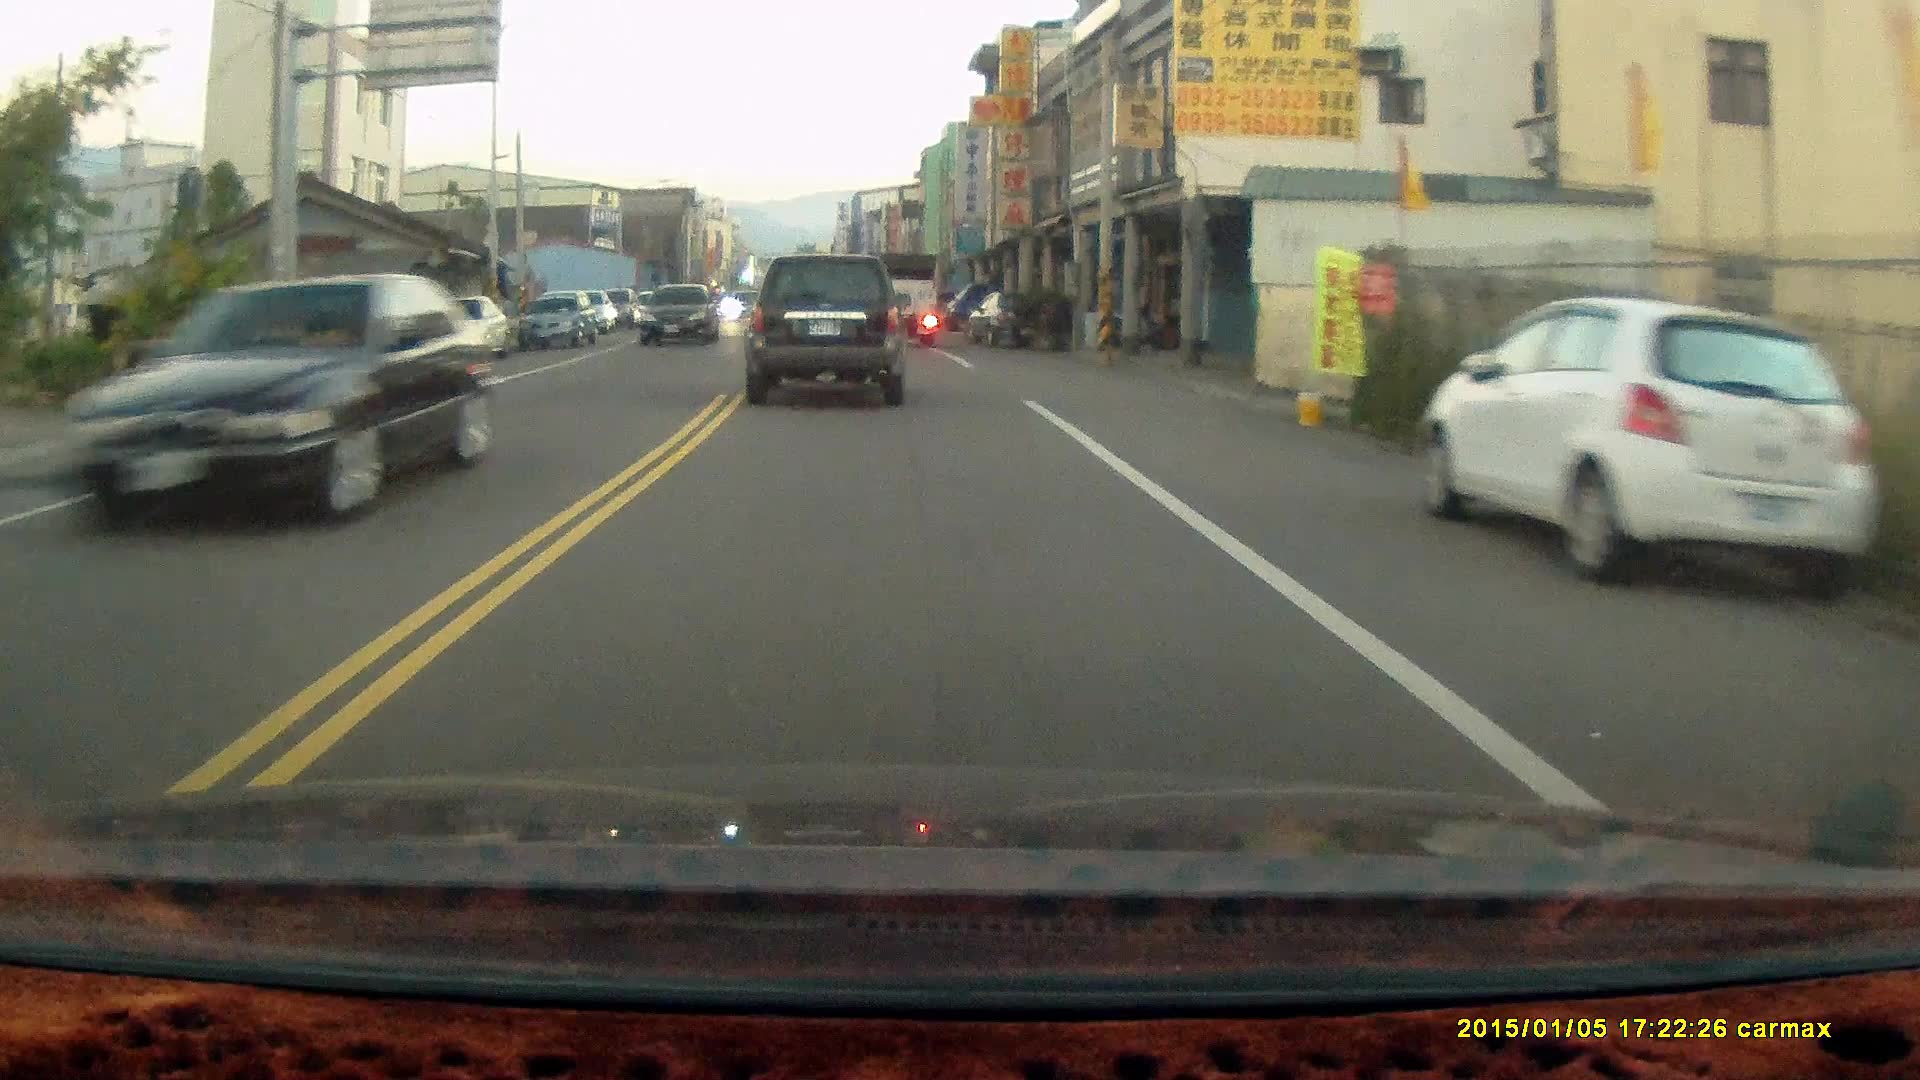vehicle: (1427, 305, 1876, 585), (25, 276, 476, 530), (744, 262, 916, 419), (860, 251, 944, 349), (411, 295, 509, 364), (638, 287, 723, 353), (513, 291, 597, 353)
